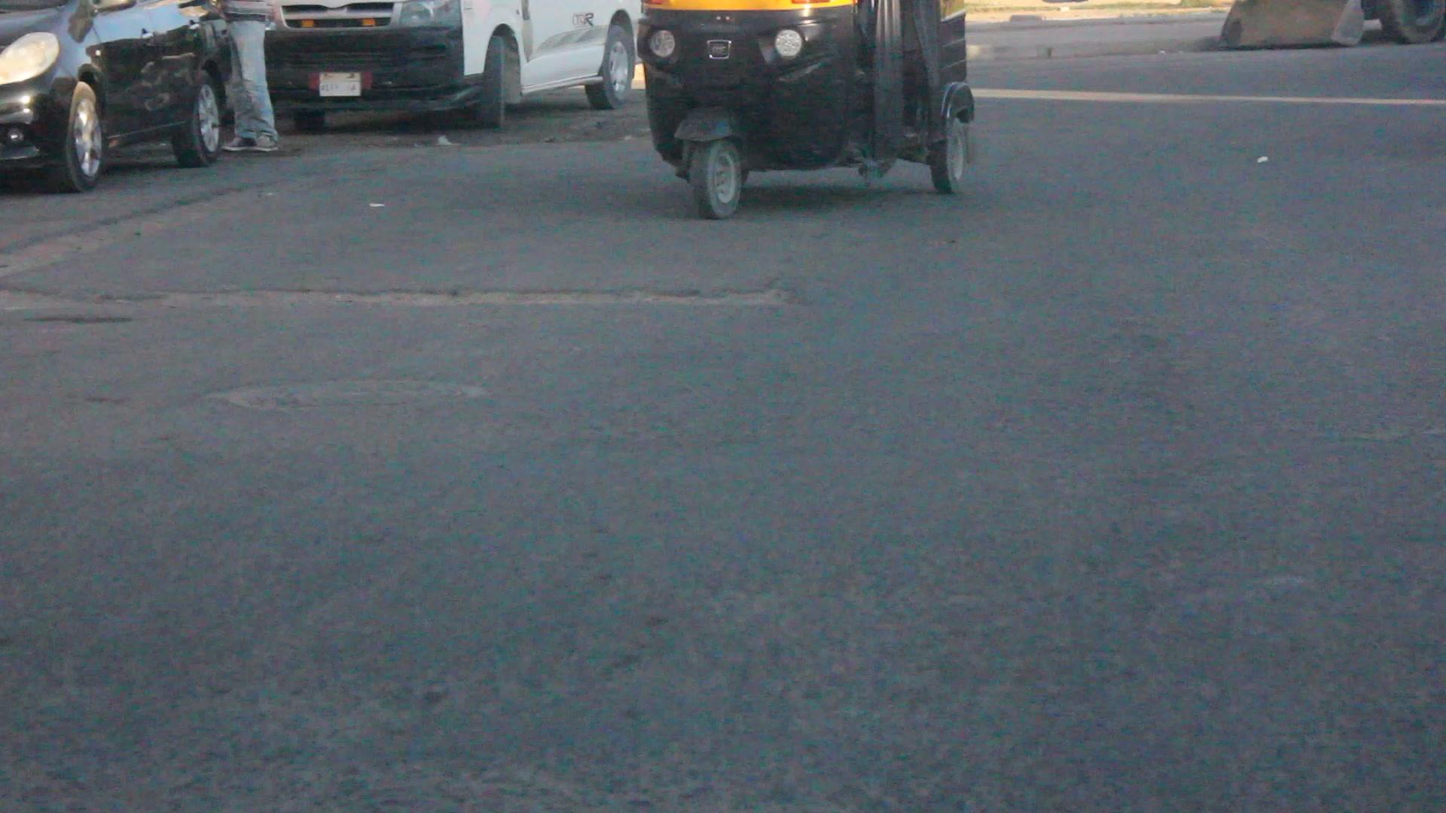Bump: (13, 472, 1446, 741)
Pothole: (0, 275, 815, 322)
